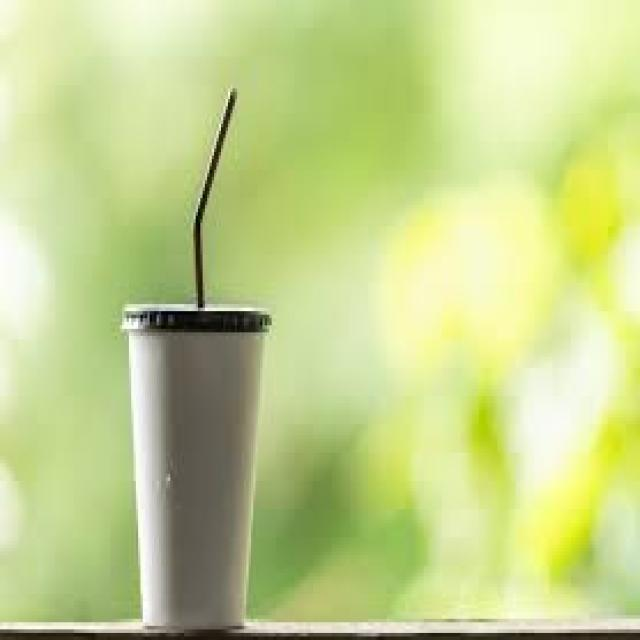bottle: (129, 330, 264, 627)
